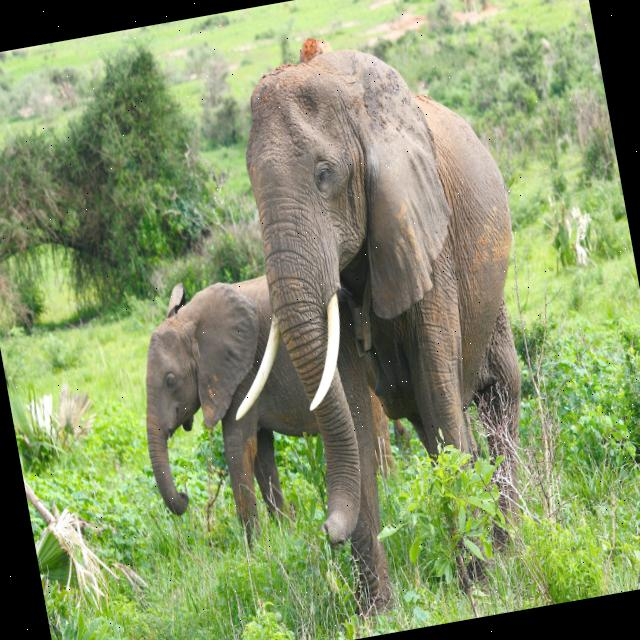Elephant: (227, 9, 576, 626), (121, 253, 404, 566)
